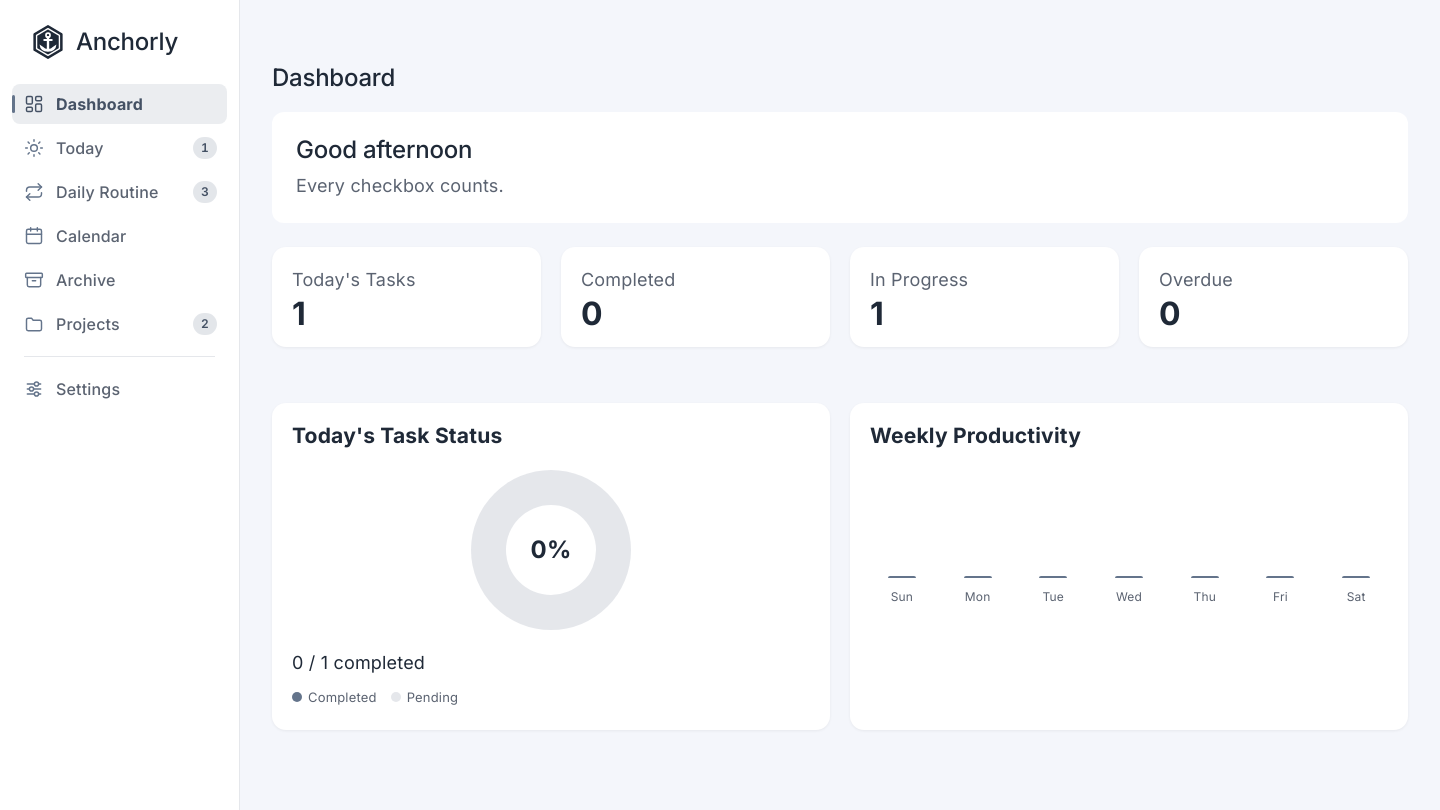
Scenario: weekly productivity chart › shows the tooltip while a bar has keyboard focus
Expected: the text "routines" is not shown
Focus the picture named "routines done" at (902, 590), box [888,576,916,604]
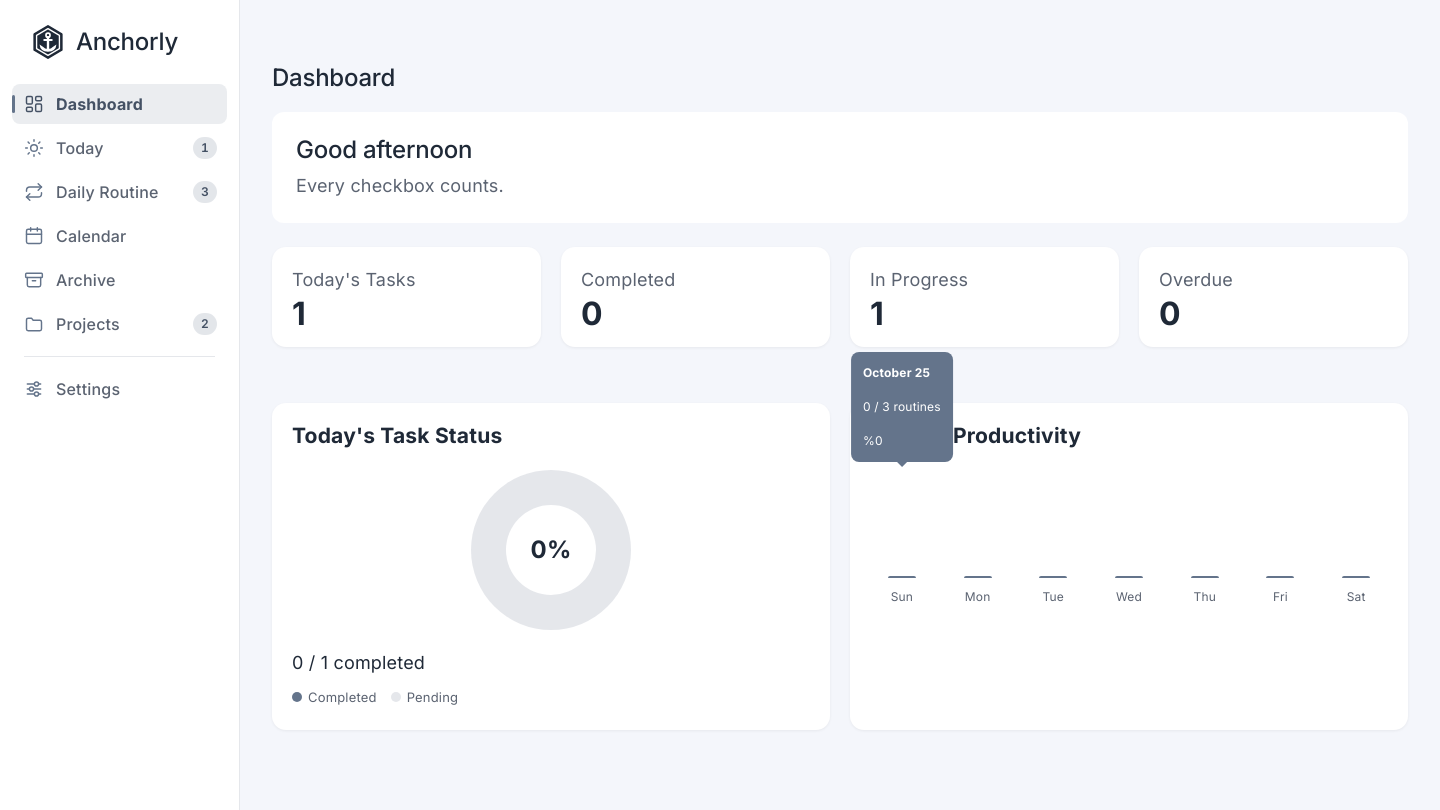
Now the text "0 / 3 routines" is shown, box [863,399,941,414]
Leave the picture named "routines done", box [888,576,916,604]
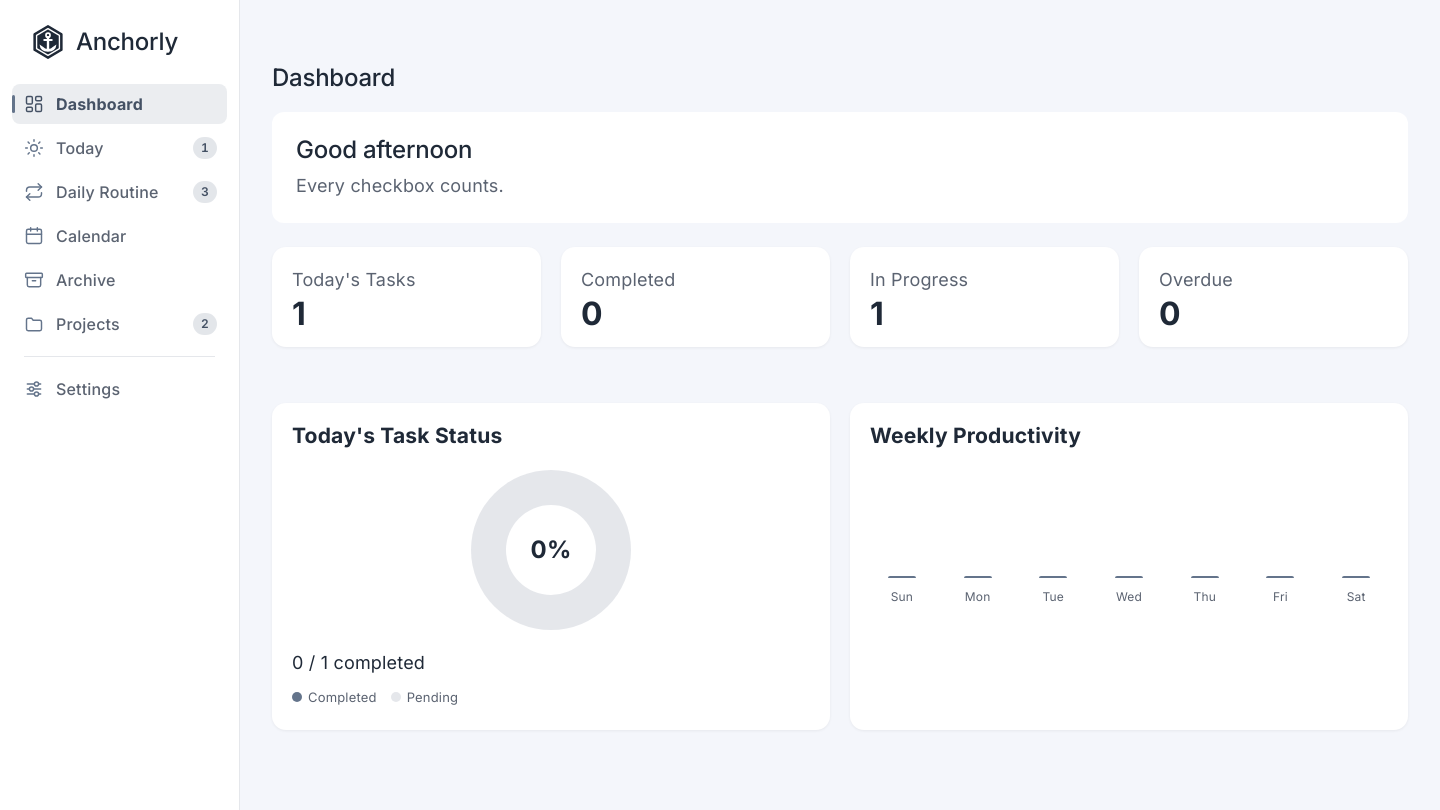
Now the text "routines" is gone
